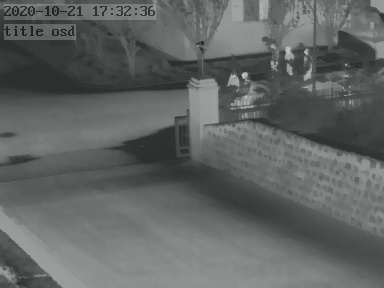person: (304, 50, 315, 82), (284, 45, 295, 74)
